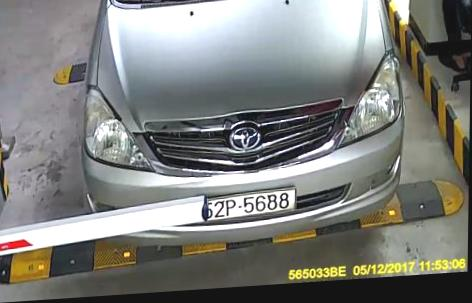License_Plate: (192, 183, 299, 226)
